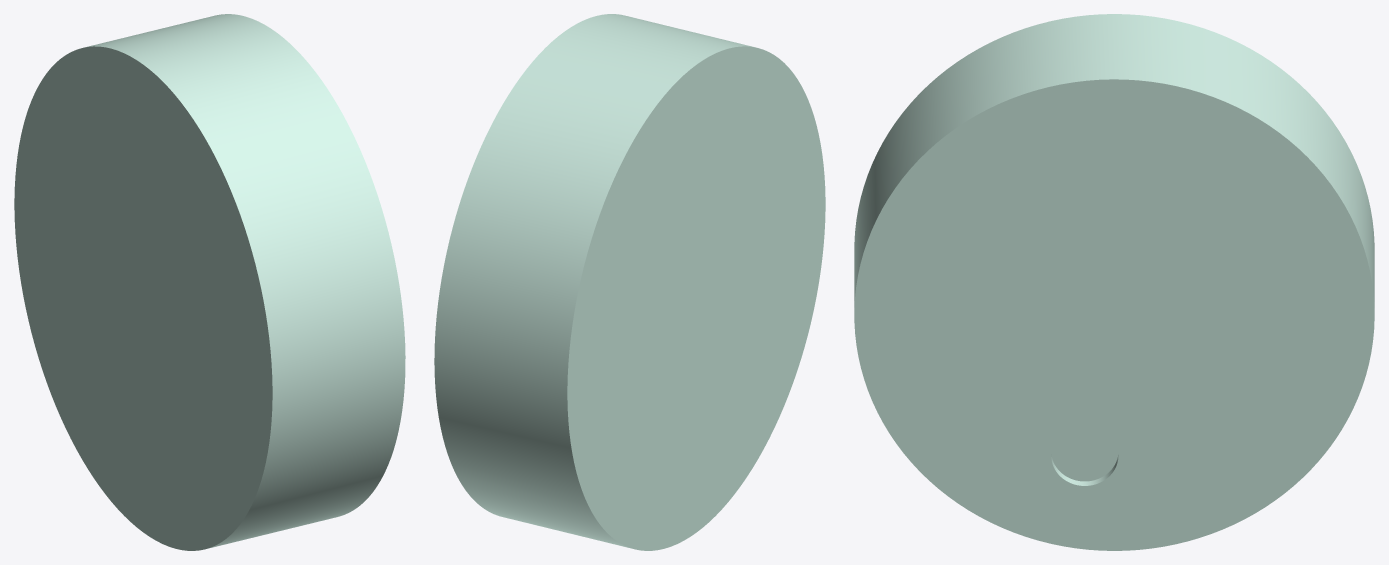
The picture shows the model from 3 angles, left to right: view 1: azimuth 30°, elevation 25°; view 2: azimuth 150°, elevation 25°; view 3: azimuth 270°, elevation 25°; orthographic projection.
Visible parts, largest first — view 1: Renderer Node; view 2: Renderer Node; view 3: Renderer Node.
Part boxes in pixels (x1,y1,x2,y2): Renderer Node: (14,14,405,550); Renderer Node: (434,14,825,550); Renderer Node: (854,14,1374,550).
Bounding box in the file's own units: 0.4531 × 1.52 × 1.52.
